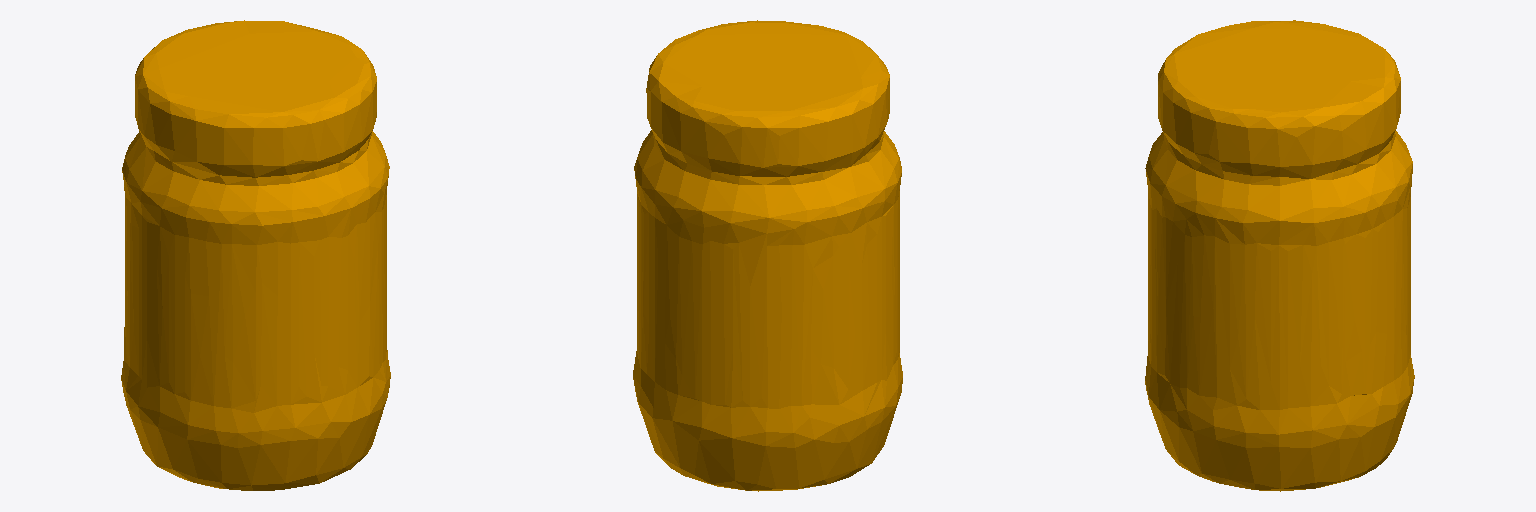
URDF robot description (jar_poisson_001):
<?xml version="1.0"?>
<robot name="jar_poisson_001">
  <link name="base_link">
    <contact>
      <lateral_friction value="1.0"/>
      <rolling_friction value="0.0"/>
      <contact_cfm value="0.0"/>
      <contact_erp value="1.0"/>
    </contact>
    <inertial>
      <mass value="1.35272993892"/>
      <inertia ixx="1" ixy="0" ixz="0" iyy="1" iyz="0" izz="1"/>
    </inertial>
    <visual>
      <geometry>
        <mesh filename="jar_poisson_001_visual.obj"/>
      </geometry>
    </visual>
    <collision>
      <geometry>
        <mesh filename="jar_poisson_001_collision.obj"/>
      </geometry>
    </collision>
  </link>
</robot>

--- What the picture shows (computed from the rendered views, not written in the file) ---
Views: 3 orthographic renders of the robot side by side, from view 1: azimuth 30°, elevation 25°; view 2: azimuth 150°, elevation 25°; view 3: azimuth 270°, elevation 25°.
Model jar_poisson_001 with 1 links and 0 joints (none), rooted at base_link, posed every joint at zero.
Visible links, largest first — view 1: base_link; view 2: base_link; view 3: base_link.
Link boxes in pixels (x1=…): base_link: x1=121, y1=20, x2=390, y2=490; base_link: x1=633, y1=20, x2=902, y2=491; base_link: x1=1145, y1=20, x2=1414, y2=491.
Bounding box of the posed robot: 0.07 × 0.0697 × 0.1087 m (x, y, z).
1 mesh visuals loaded from 1 distinct referenced files (1 OBJ).